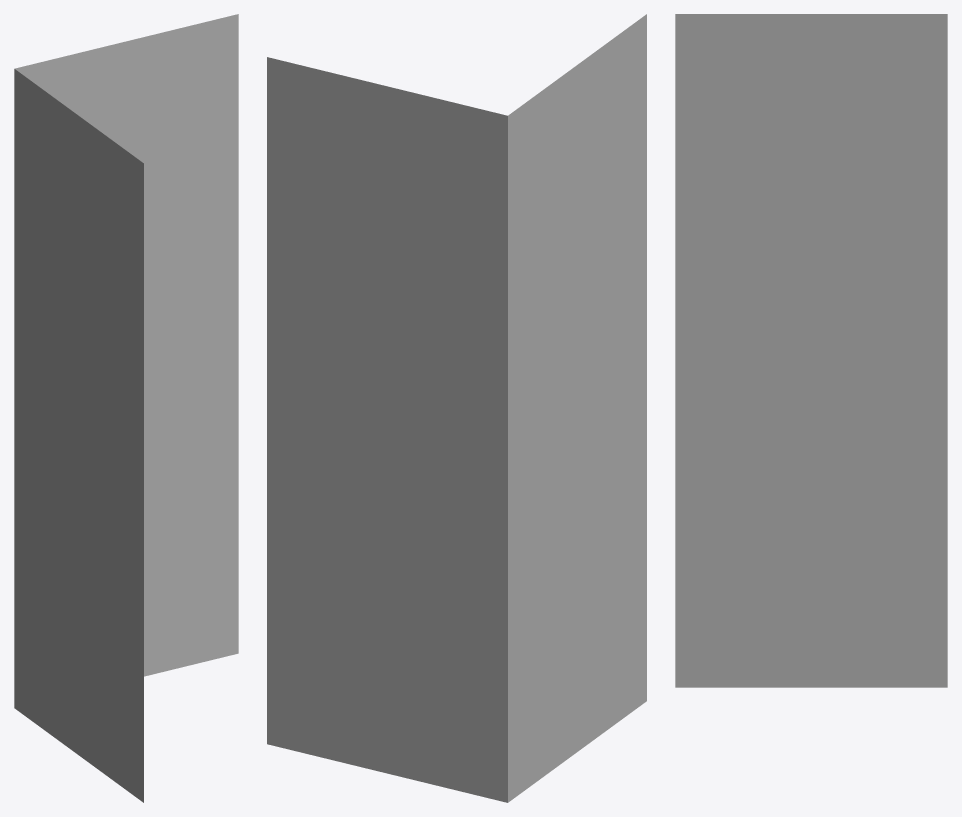
The model's file is WallCornerOuter.fbx.
The picture shows the model from 3 angles, left to right: view 1: azimuth 30°, elevation 25°; view 2: azimuth 150°, elevation 25°; view 3: azimuth 270°, elevation 25°; orthographic projection. The views are drawn at different scales.
Parts seen in each view (by area): view 1: WallCornerOuter; view 2: WallCornerOuter; view 3: WallCornerOuter.
Boxes of the visible parts, x1,y1,x2,y2 form: WallCornerOuter: (14, 14, 238, 802); WallCornerOuter: (267, 14, 646, 802); WallCornerOuter: (675, 14, 947, 687).
Size of the model in its own units: 110 by 300 by 110.
Materials: 1 (1 with a texture image).
